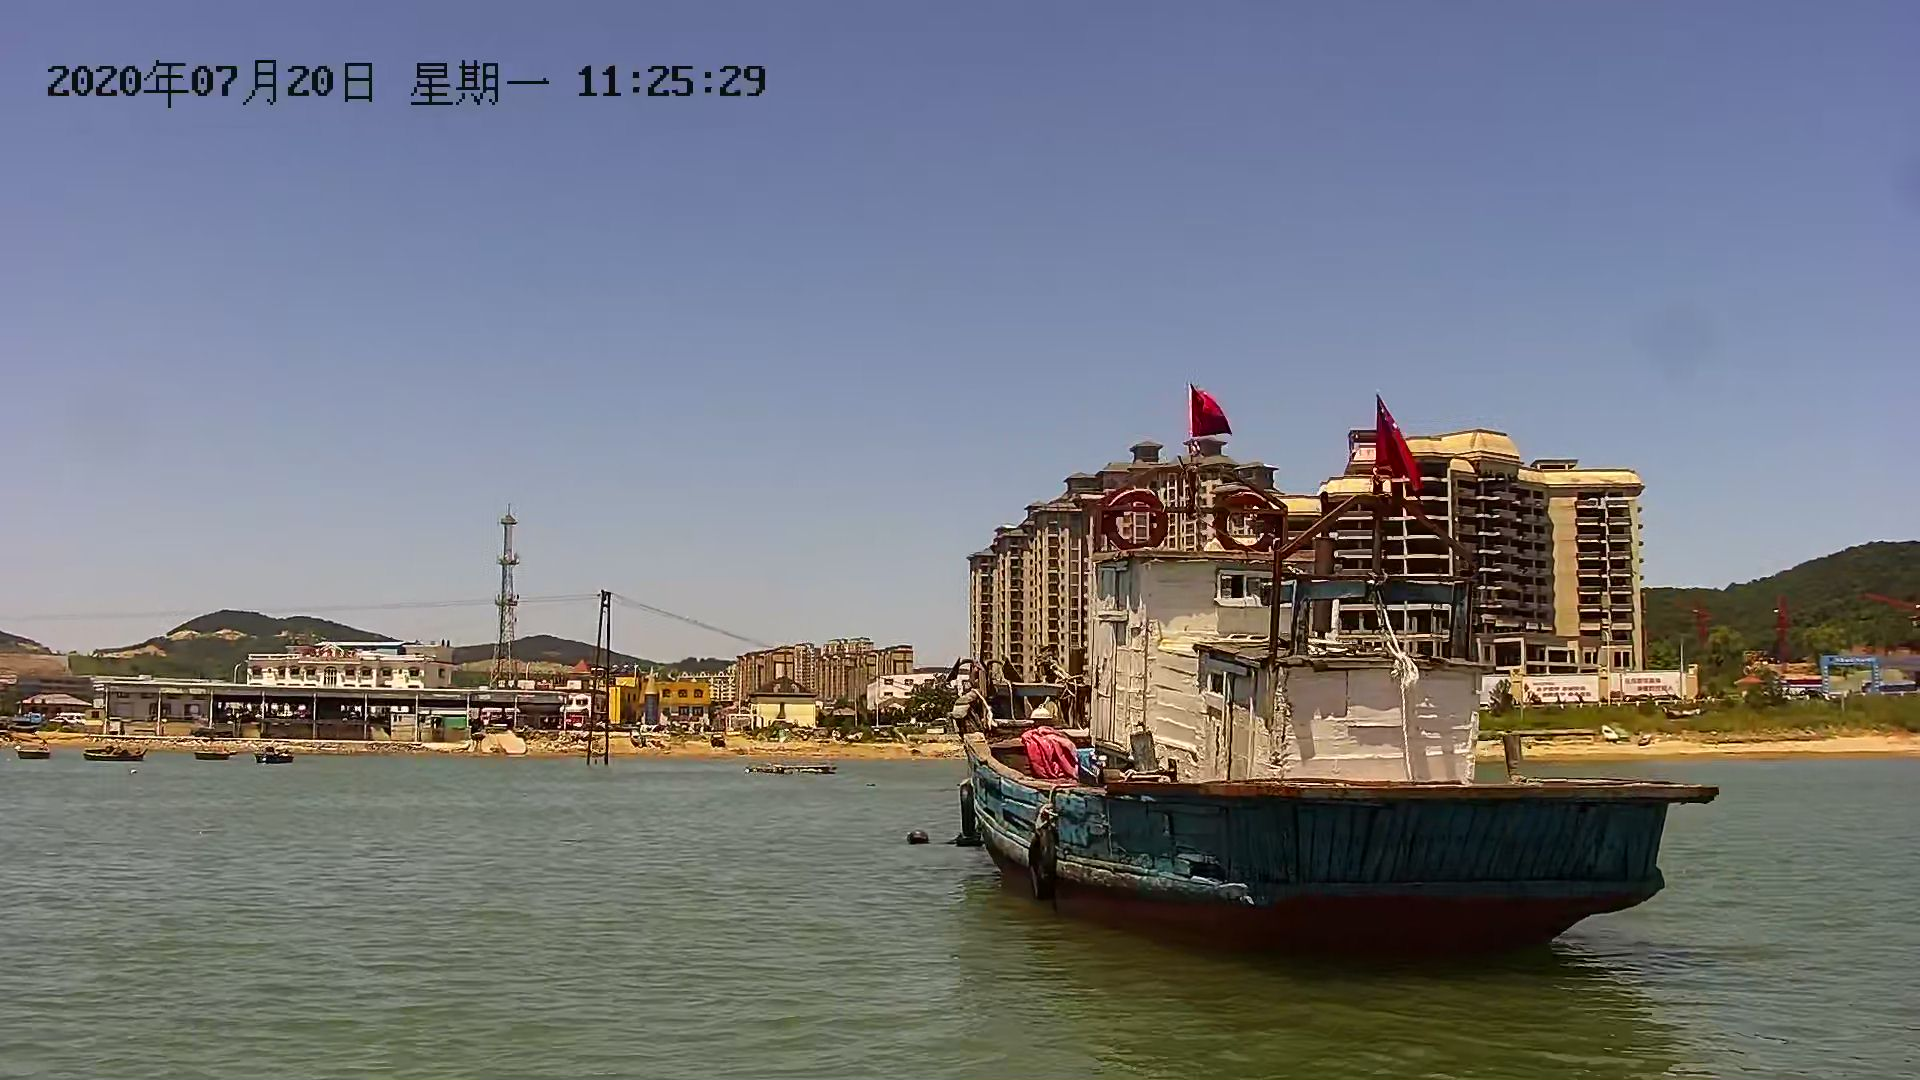ball: (903, 825, 930, 849)
boat: (953, 537, 1714, 972), (80, 746, 149, 767), (193, 746, 232, 769), (17, 746, 58, 767), (251, 752, 293, 765)
mast: (579, 576, 618, 771)
